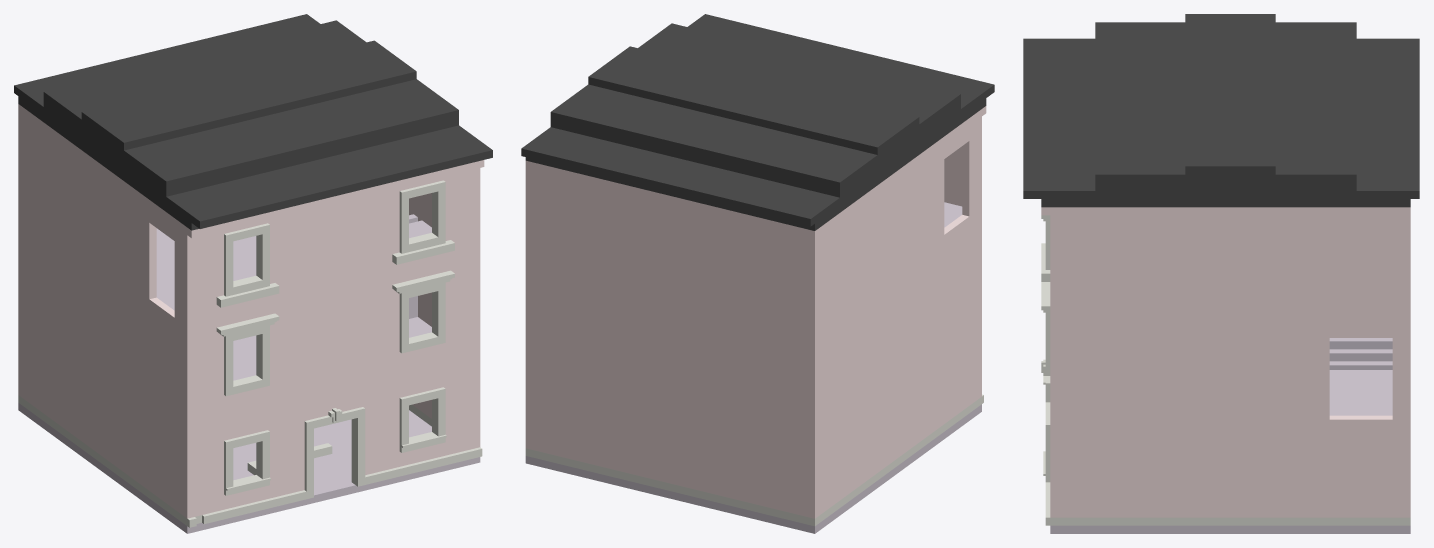
The model's file is immob cordioli 2.0.obj.
The picture shows the model from 3 angles, left to right: view 1: azimuth 30°, elevation 25°; view 2: azimuth 150°, elevation 25°; view 3: azimuth 270°, elevation 25°; orthographic projection. The views are drawn at different scales.
Size of the model in its own units: 16 by 18 by 17.6.
Materials: 1 (1 with a texture image).
